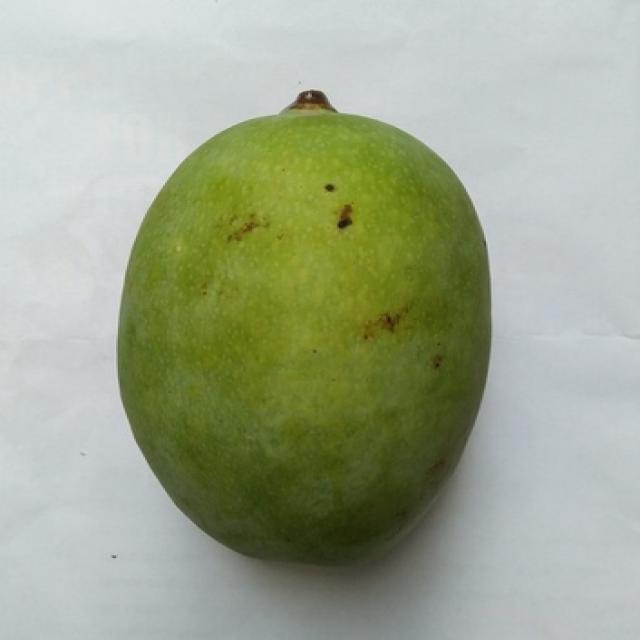Mango: (118, 107, 490, 560)
